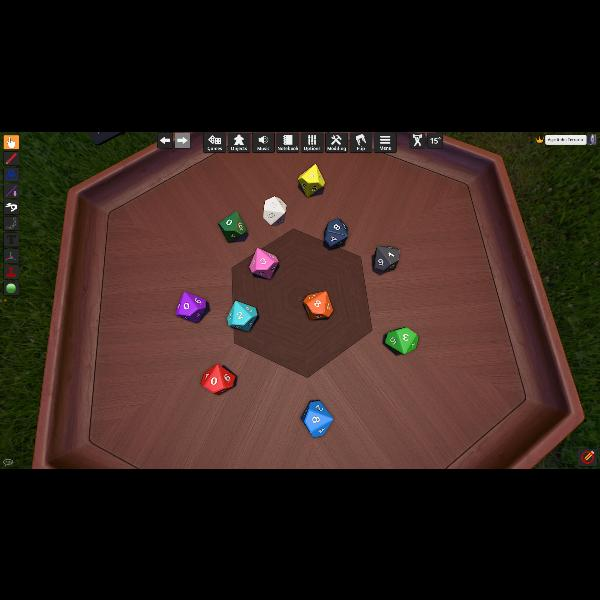d10: (300, 399, 332, 435), (202, 363, 235, 393), (176, 291, 206, 323), (226, 300, 258, 330), (249, 247, 279, 279), (218, 211, 248, 241), (302, 290, 332, 320), (385, 326, 417, 353), (298, 162, 323, 196), (324, 218, 349, 248), (263, 196, 287, 226), (372, 245, 398, 272)
